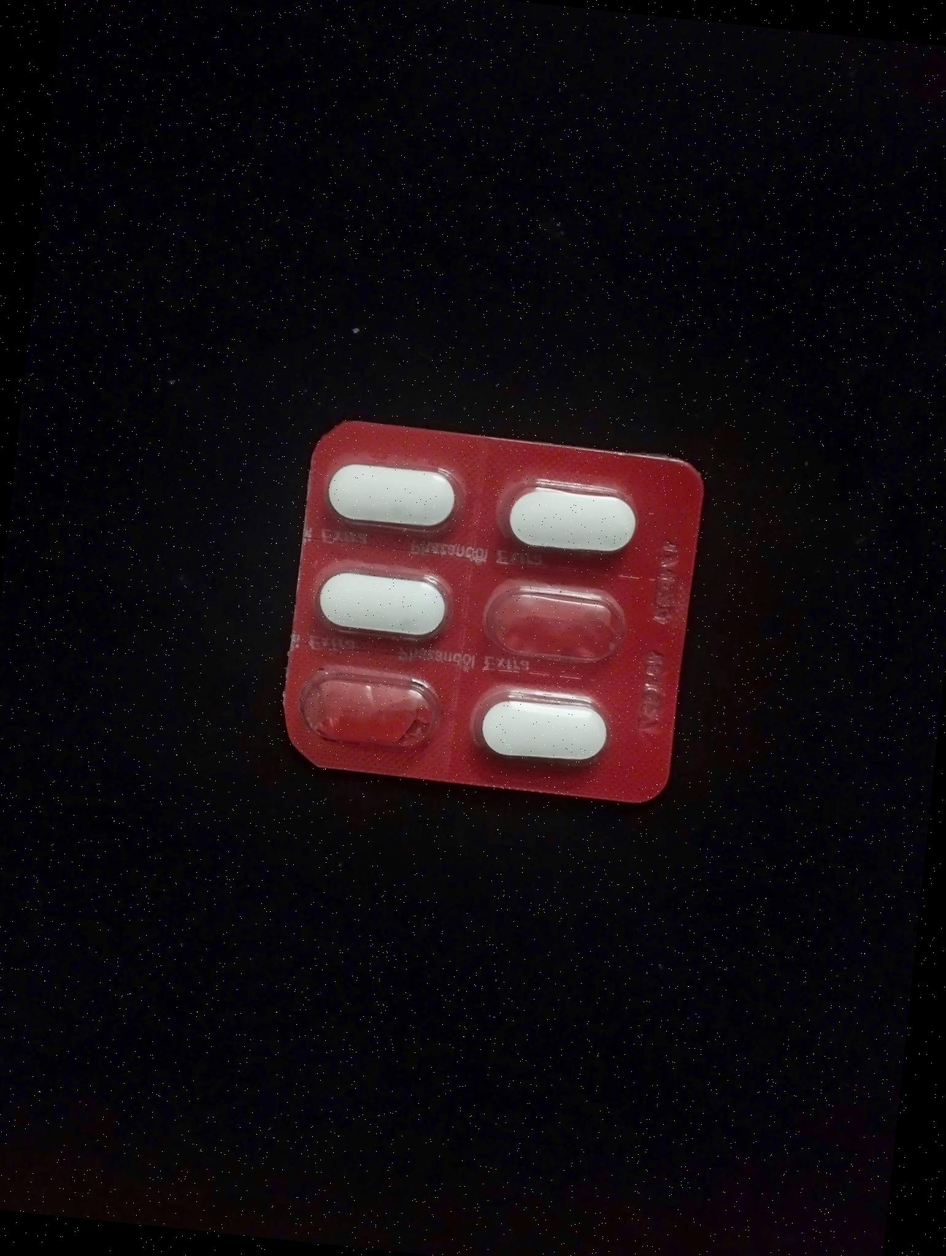Empty: (472, 575, 633, 677), (289, 664, 447, 760)
Full: (309, 456, 468, 548), (460, 683, 616, 776), (309, 556, 452, 646), (502, 482, 647, 569)
